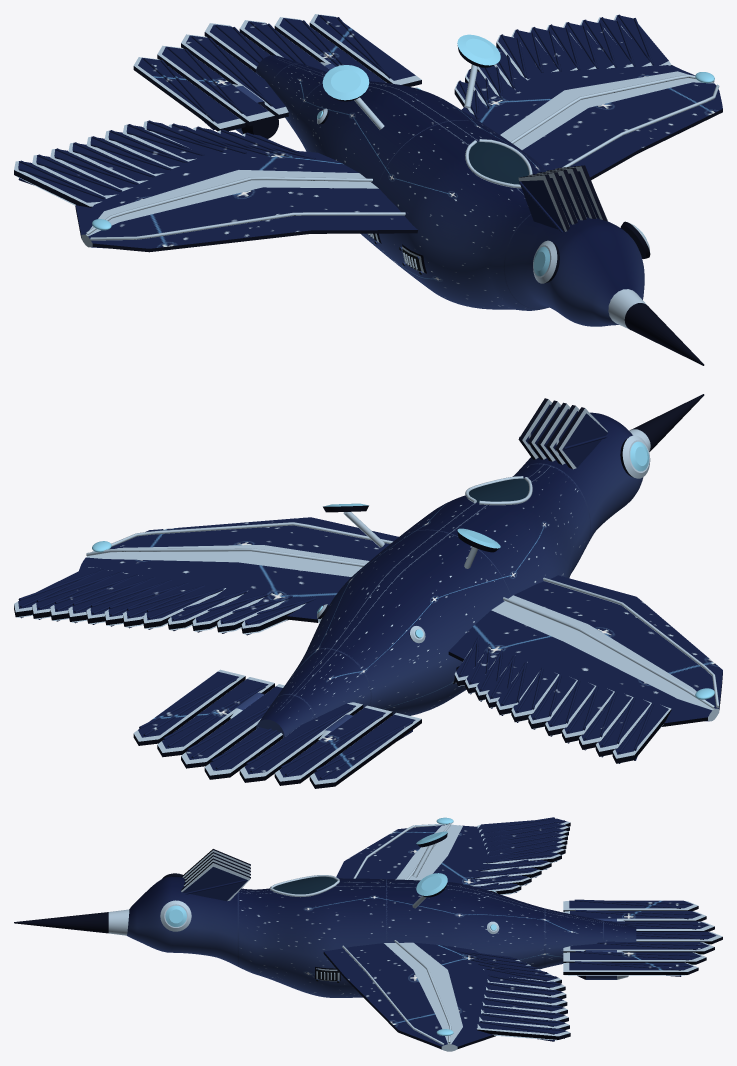
3 views of the same model, one above another, from view 1: azimuth 30°, elevation 25°; view 2: azimuth 150°, elevation 25°; view 3: azimuth 270°, elevation 25° (orthographic). The views are drawn at different scales.
Visible parts, largest first — view 1: kingfisher_hull; view 2: kingfisher_hull; view 3: kingfisher_hull.
Part boxes in pixels (left/top/right/bottom): kingfisher_hull: left=14, top=14, right=722, bottom=365; kingfisher_hull: left=14, top=394, right=722, bottom=788; kingfisher_hull: left=14, top=817, right=722, bottom=1051.
Size of the model in its own units: 12.5 by 3.63 by 17.
Materials: 1 (1 with a texture image).
